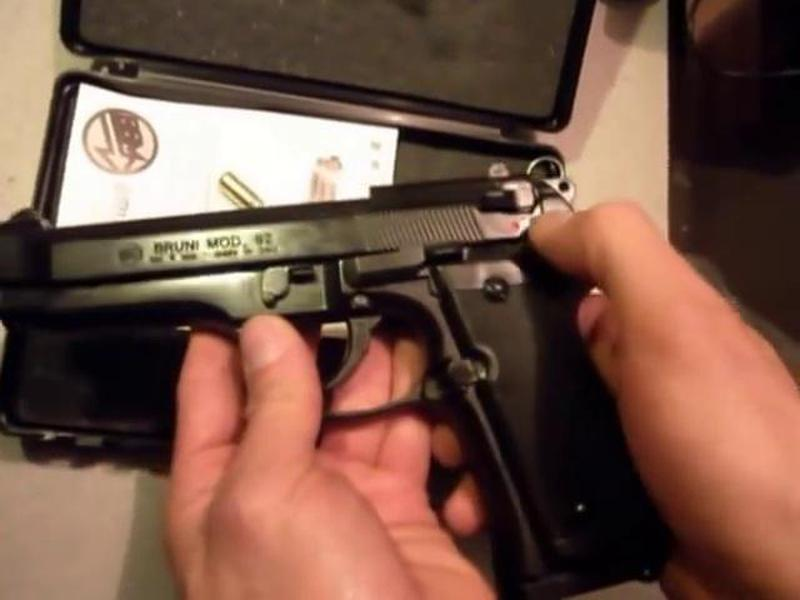Pistola: (20, 161, 659, 582)
